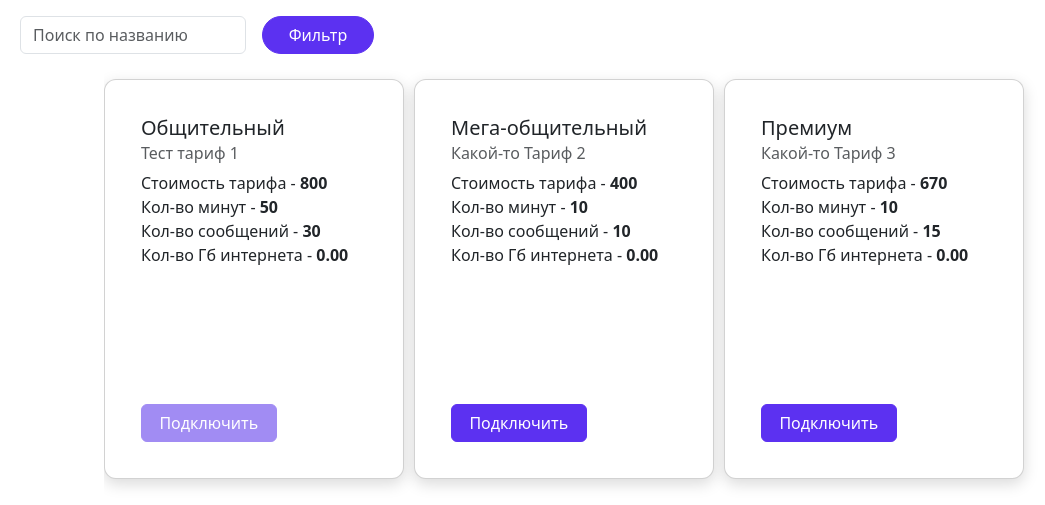
Test: Tariffs › check search tariffs
Expected: the text "Общительный" is shown, [141,114,285,141]
Expected: the text "Мега-общительный" is shown, [451,116,677,140]
Type "общительный" into the search field with test id "search" at (133, 35), box [20,16,246,54]
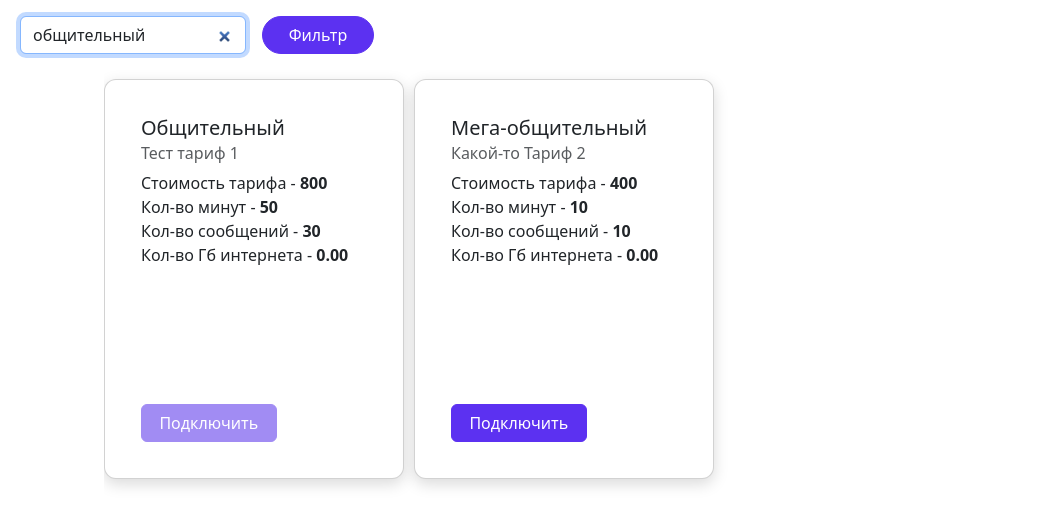
Expected: the text "Общительный" is shown, [141,114,285,141]
Now the text "Премиум" is gone
